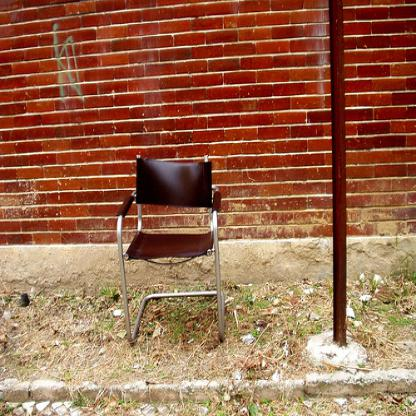chair: (114, 154, 224, 345)
